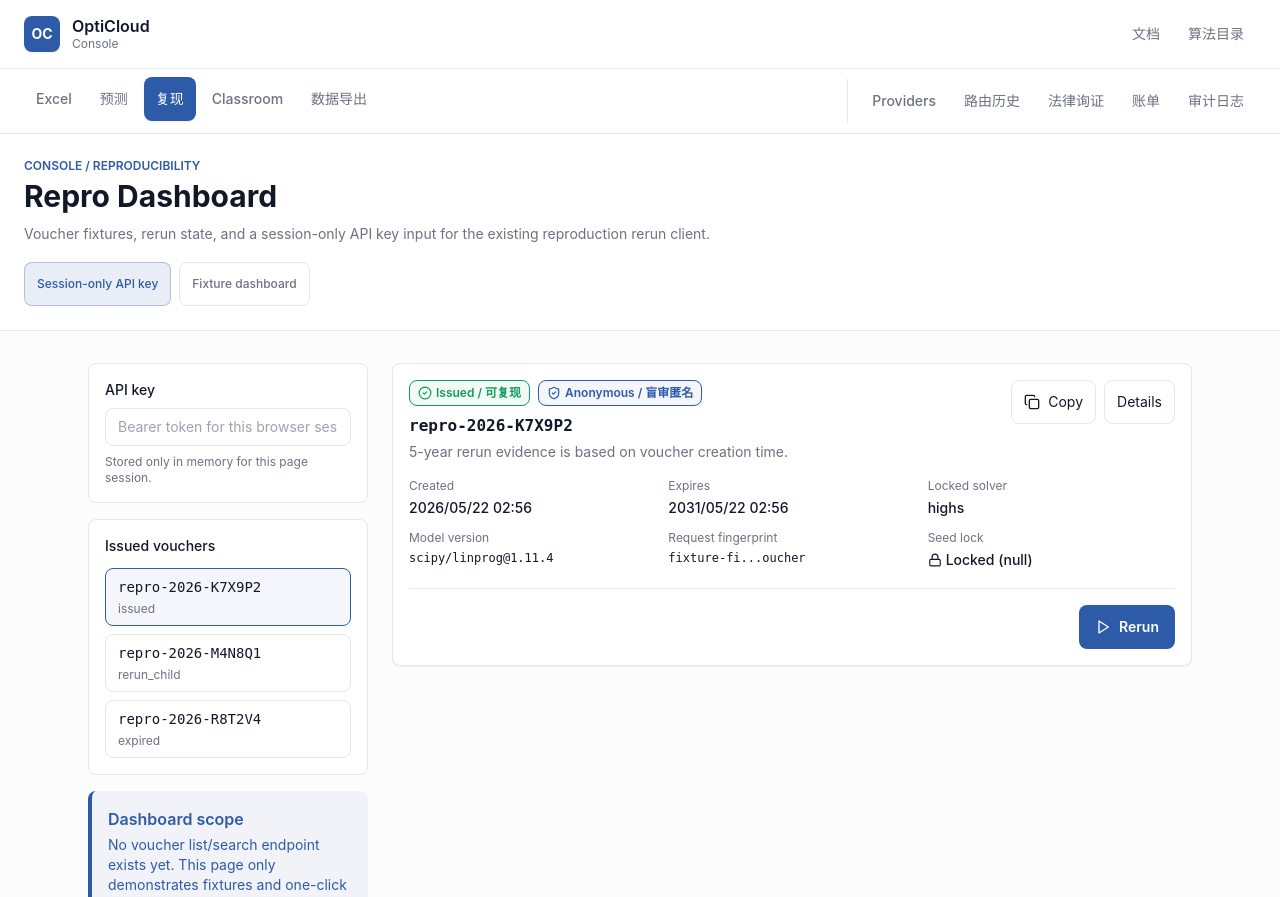
Test: ReproConsolePage › renders fixtures and surfaces rerun results
The width and height of the screenshot is (1280, 897).
In the password field labelled "API key": (228, 427) [105, 408, 351, 446], type "sk-test"
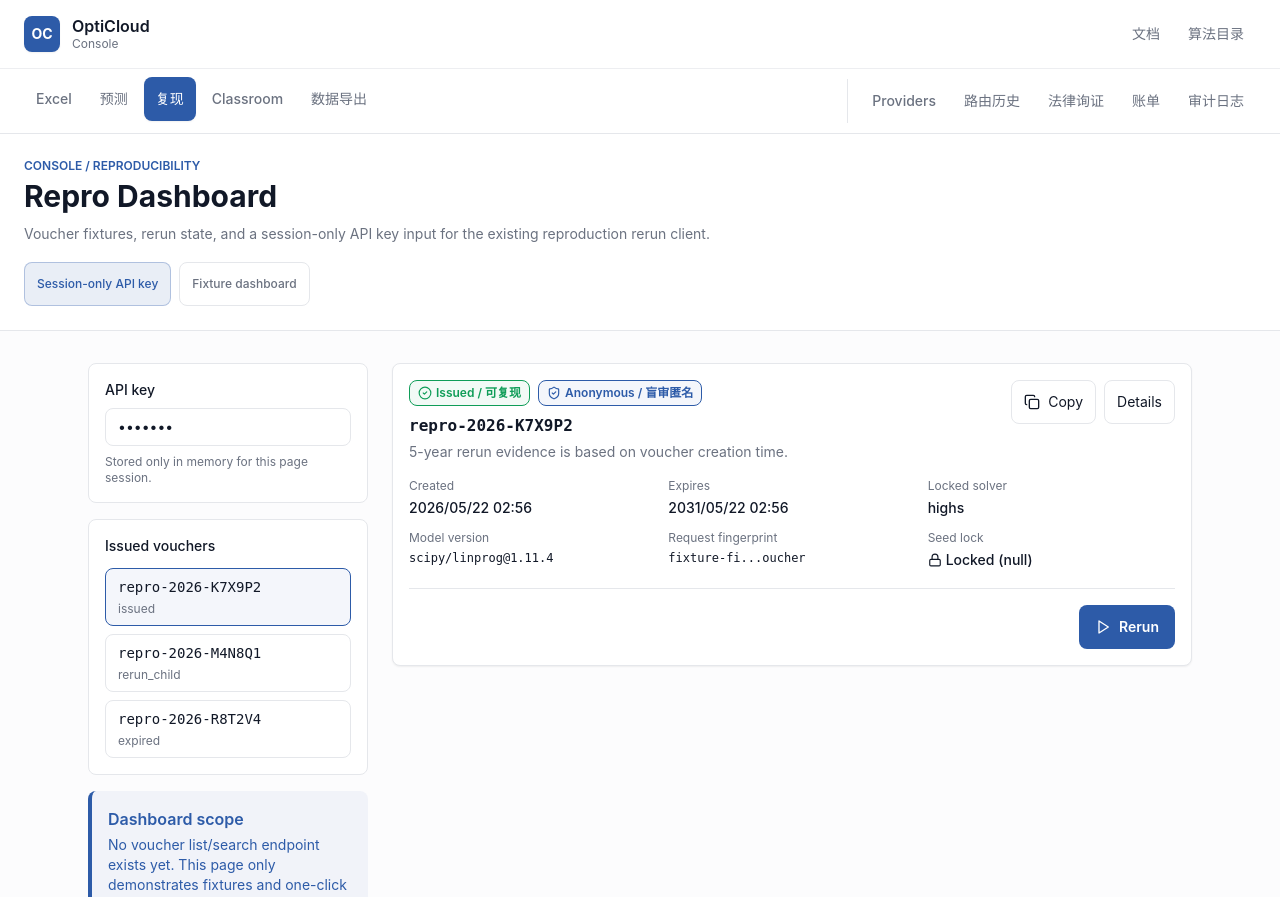
Click the button with test id "voucher-rerun": (1127, 627) [1079, 605, 1175, 649]
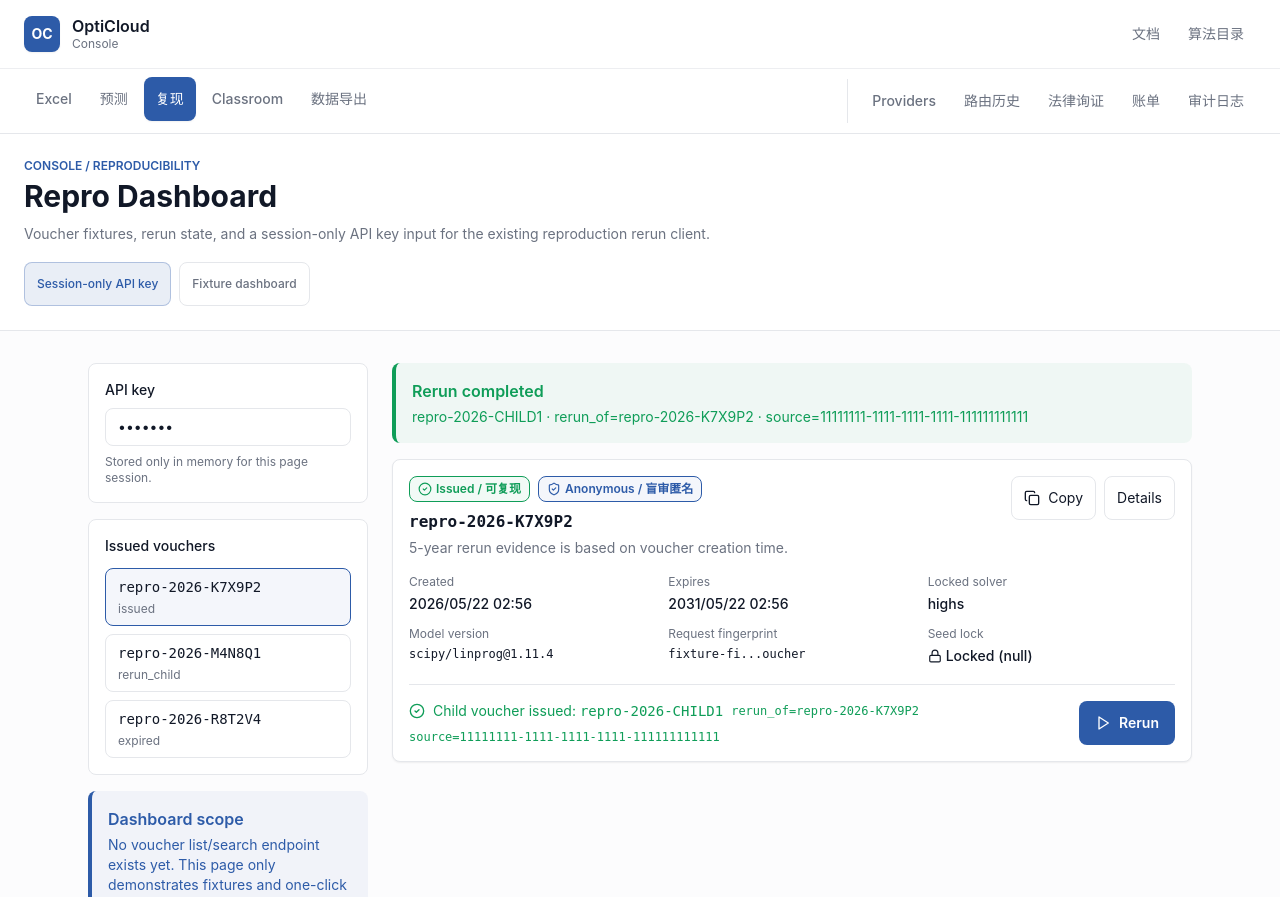
Check: the text with test id "voucher-rerun-child-result" reads "repro-2026-CHILD1", box [580, 703, 723, 719]
Check: the text with test id "voucher-rerun-source-result" reads "source=11111111-1111-1111-1111-111111111111", box [409, 729, 720, 745]
